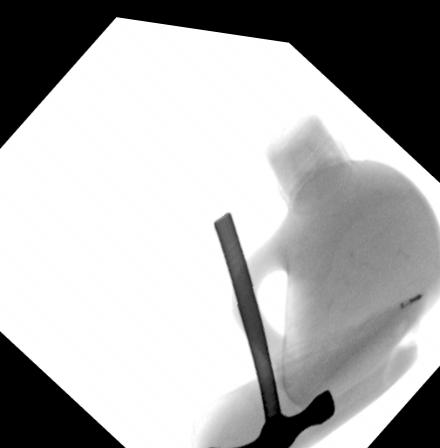Hammer: (206, 205, 336, 448)
